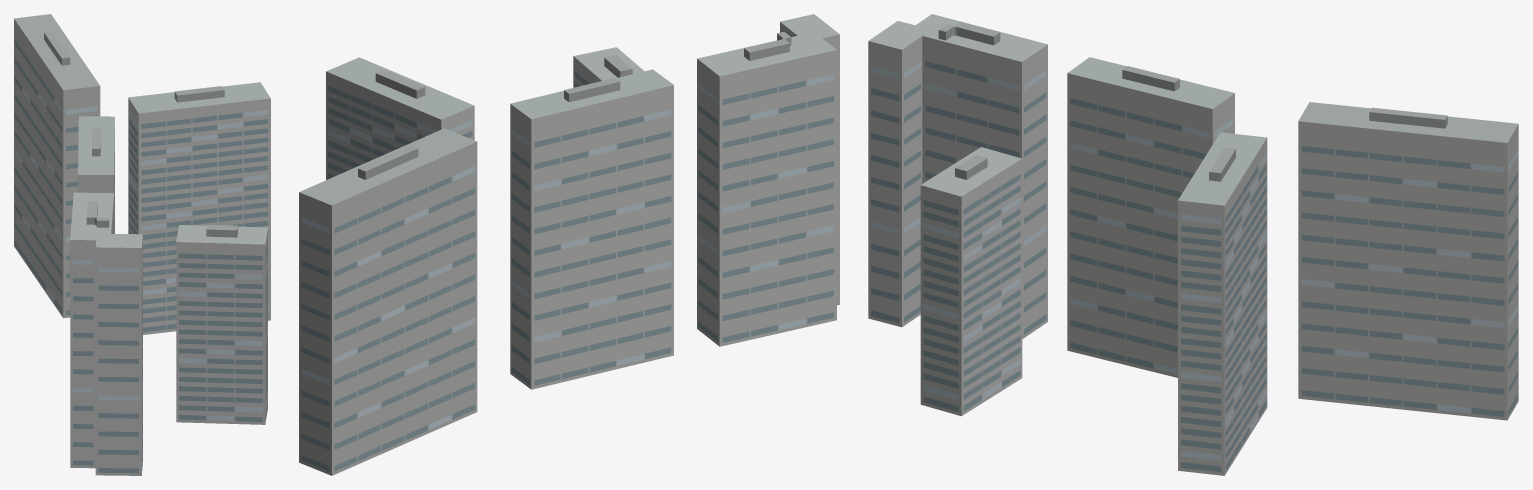
Rendered from apt-a13922110.glb.
The picture shows the model from 3 angles, left to right: view 1: azimuth 30°, elevation 25°; view 2: azimuth 150°, elevation 25°; view 3: azimuth 270°, elevation 25°; orthographic projection. The views are drawn at different scales.
Parts seen in each view (by area): view 1: apt-a13922110; view 2: apt-a13922110; view 3: apt-a13922110.
Part boxes in pixels (x1,y1,x2,y2): apt-a13922110: (14,14,270,475); apt-a13922110: (299,14,839,475); apt-a13922110: (868,14,1518,475).
Bounding box in the file's own units: 109 × 79 × 163.
